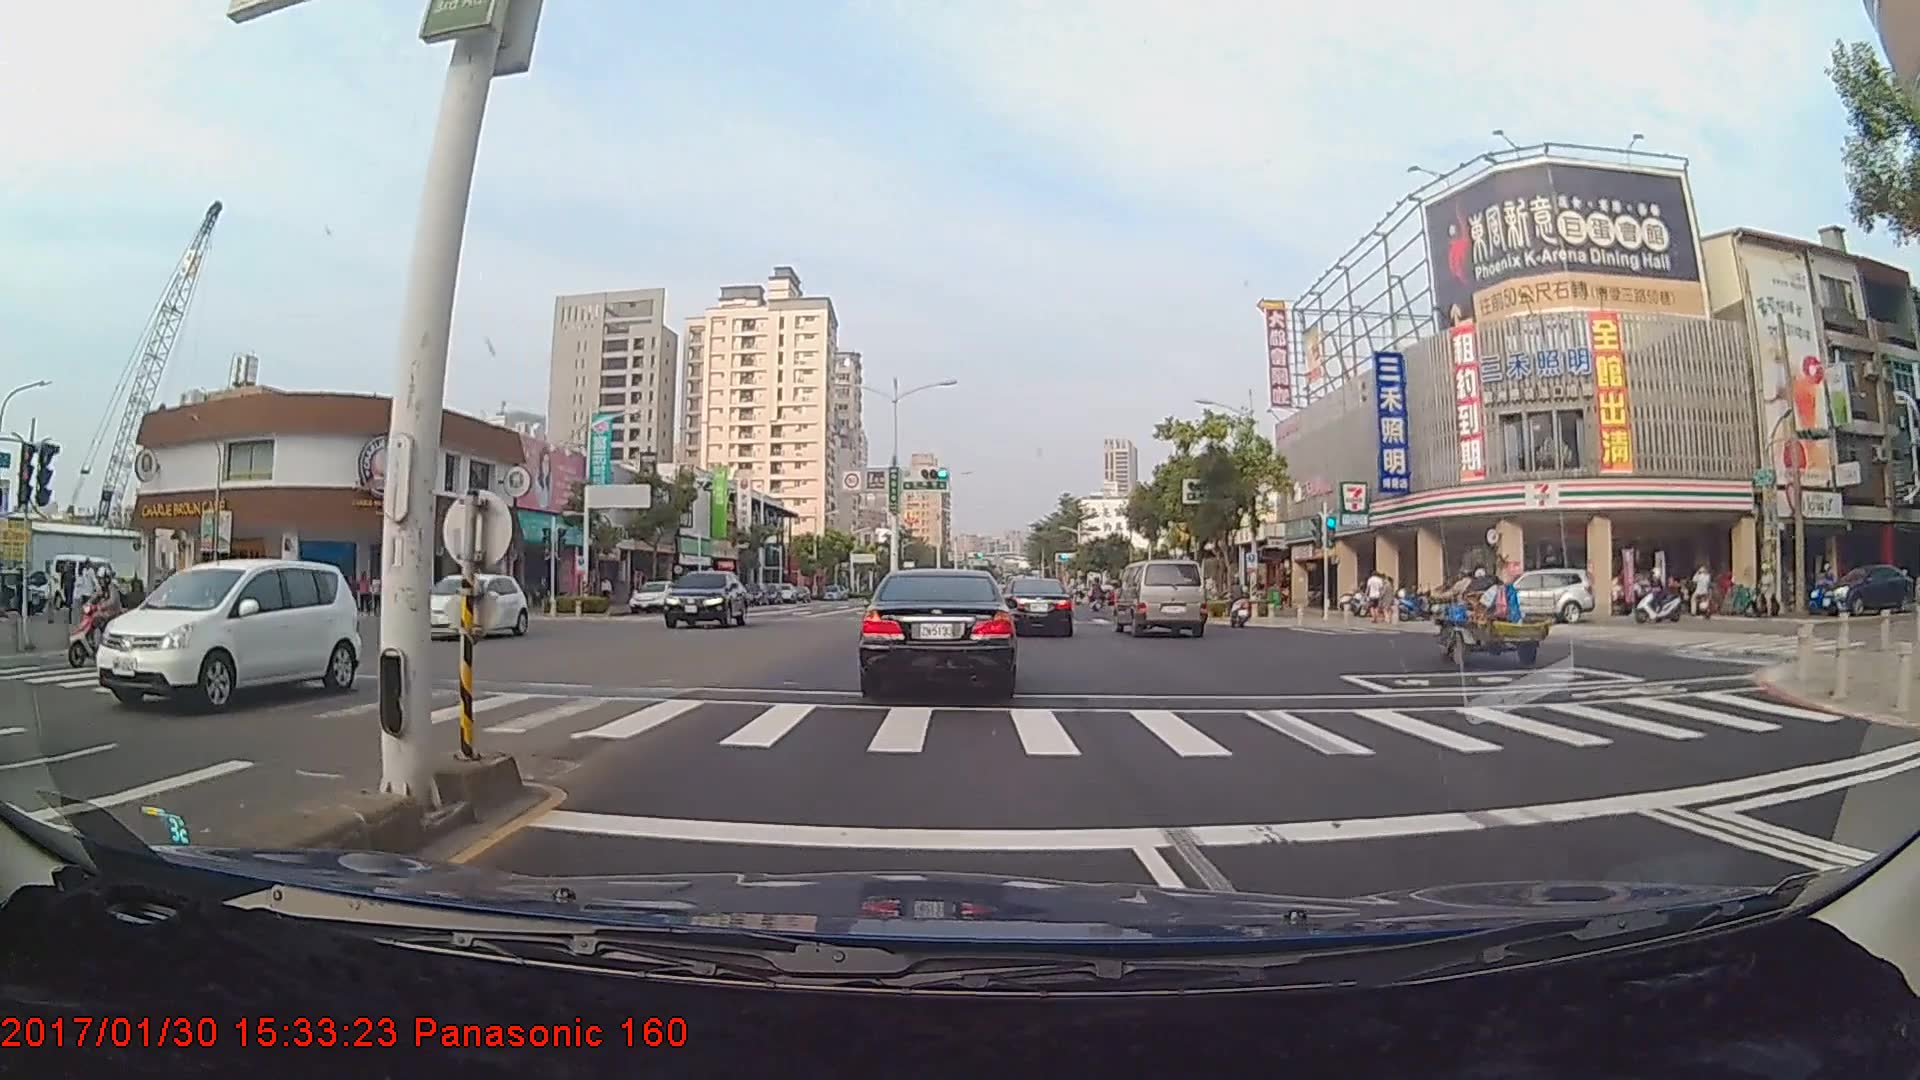pedestrian: (74, 557, 101, 629), (59, 557, 79, 621), (1364, 570, 1384, 623)
rider: (63, 560, 142, 674), (1630, 566, 1695, 633), (1216, 579, 1255, 633)
vehicle: (91, 555, 357, 705), (860, 565, 1018, 700), (401, 570, 523, 644), (1445, 573, 1590, 630), (1116, 560, 1206, 639), (663, 569, 748, 630), (1002, 577, 1075, 637), (626, 578, 678, 613)
